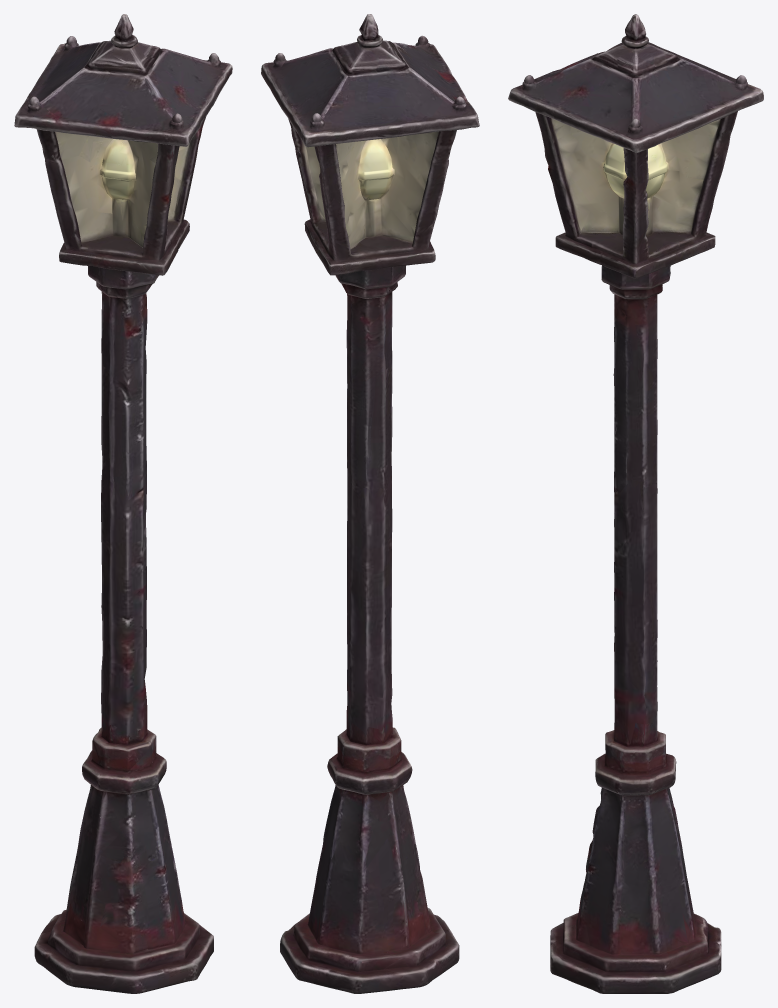
The model's file is street_lamp_tselyy_idle.glb.
3 views of the same model, side by side, from view 1: azimuth 30°, elevation 25°; view 2: azimuth 150°, elevation 25°; view 3: azimuth 270°, elevation 25° (orthographic).
Visible parts, largest first — view 1: tripo_node_766fb7b2-80bb-4c18-bb5c-8dbef176522f; view 2: tripo_node_766fb7b2-80bb-4c18-bb5c-8dbef176522f; view 3: tripo_node_766fb7b2-80bb-4c18-bb5c-8dbef176522f.
Part boxes in pixels (x1,y1,x2,y2): tripo_node_766fb7b2-80bb-4c18-bb5c-8dbef176522f: (14,14,232,993); tripo_node_766fb7b2-80bb-4c18-bb5c-8dbef176522f: (261,14,479,993); tripo_node_766fb7b2-80bb-4c18-bb5c-8dbef176522f: (508,14,763,993).
Bounding box in the file's own units: 0.9662 × 4 × 0.9821.
1 material, 1 textured.
